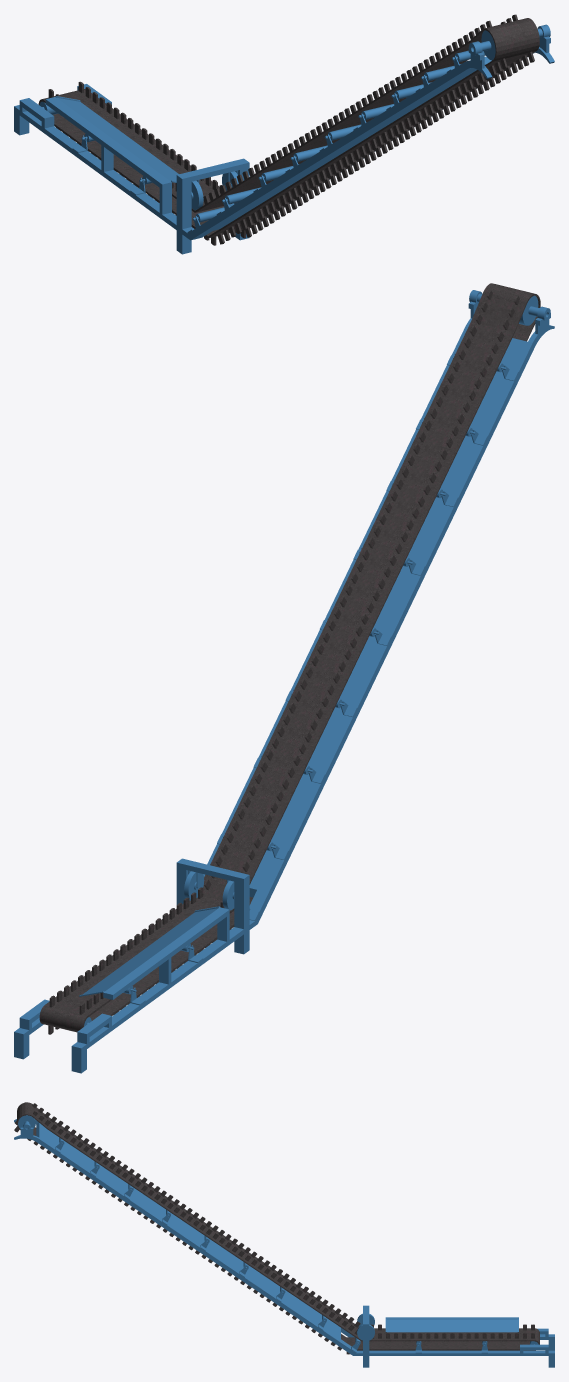
File: 皮带机.glb
3 views of the same model, one above another, from view 1: azimuth 30°, elevation 25°; view 2: azimuth 150°, elevation 25°; view 3: azimuth 270°, elevation 25° (orthographic). The views are drawn at different scales.
Visible parts, largest first — view 1: root; view 2: root; view 3: root.
Part boxes in pixels (x1=…): root: x1=14, y1=14, x2=554, y2=254; root: x1=14, y1=283, x2=554, y2=1073; root: x1=14, y1=1102, x2=554, y2=1367.
Size of the model in its own units: 0.78 by 4.36 by 8.53.
2 materials, 1 textured.
